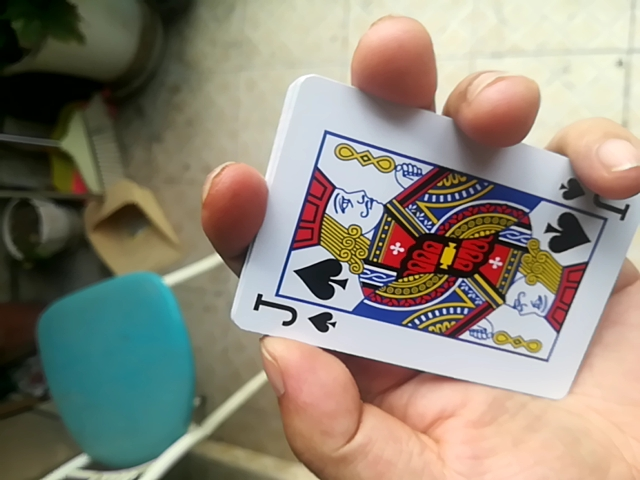ht j: (212, 73, 633, 406)
